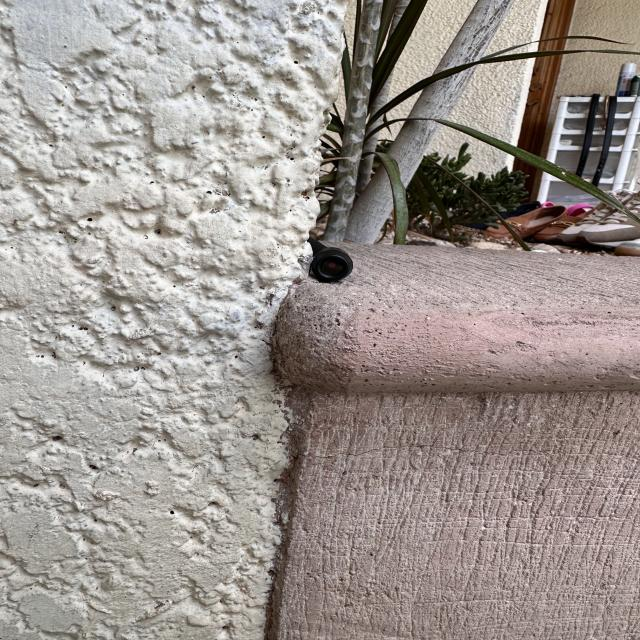hidden camera: (317, 254, 349, 278)
